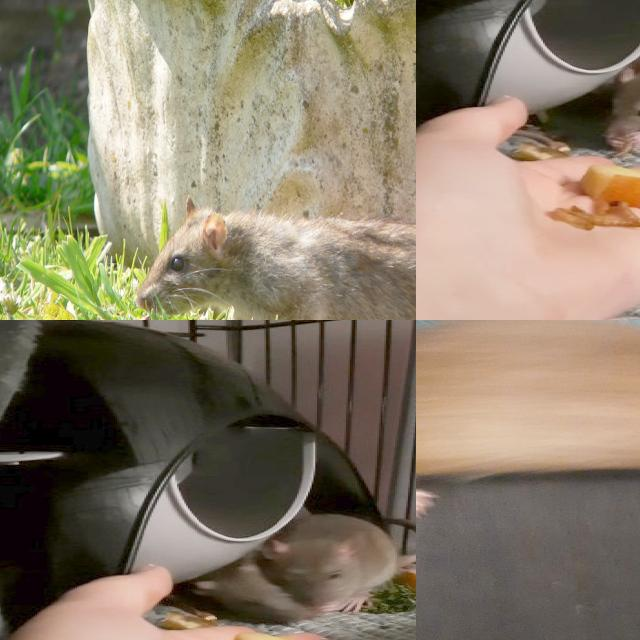rat: (416, 320, 640, 518), (137, 207, 416, 320), (258, 514, 403, 613), (604, 50, 640, 143)
